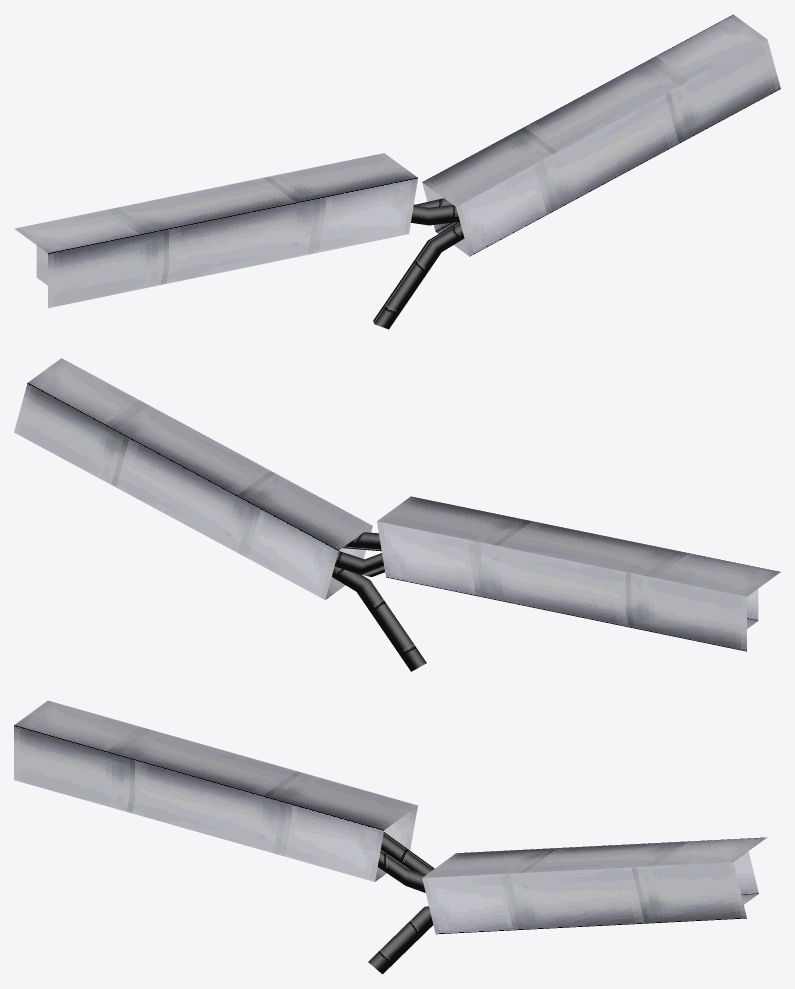
Rendered from wirebox.glb.
The picture shows the model from 3 angles, top to bottom: view 1: azimuth 30°, elevation 25°; view 2: azimuth 150°, elevation 25°; view 3: azimuth 330°, elevation 25°; orthographic projection.
Parts seen in each view (by area): view 1: wirebox; view 2: wirebox; view 3: wirebox.
Boxes of the visible parts, x1=… form: wirebox: x1=14, y1=14, x2=780, y2=329; wirebox: x1=14, y1=358, x2=780, y2=671; wirebox: x1=14, y1=700, x2=766, y2=974.
Bounding box in the file's own units: 513 × 141 × 41.28.
1 material, 1 textured.
